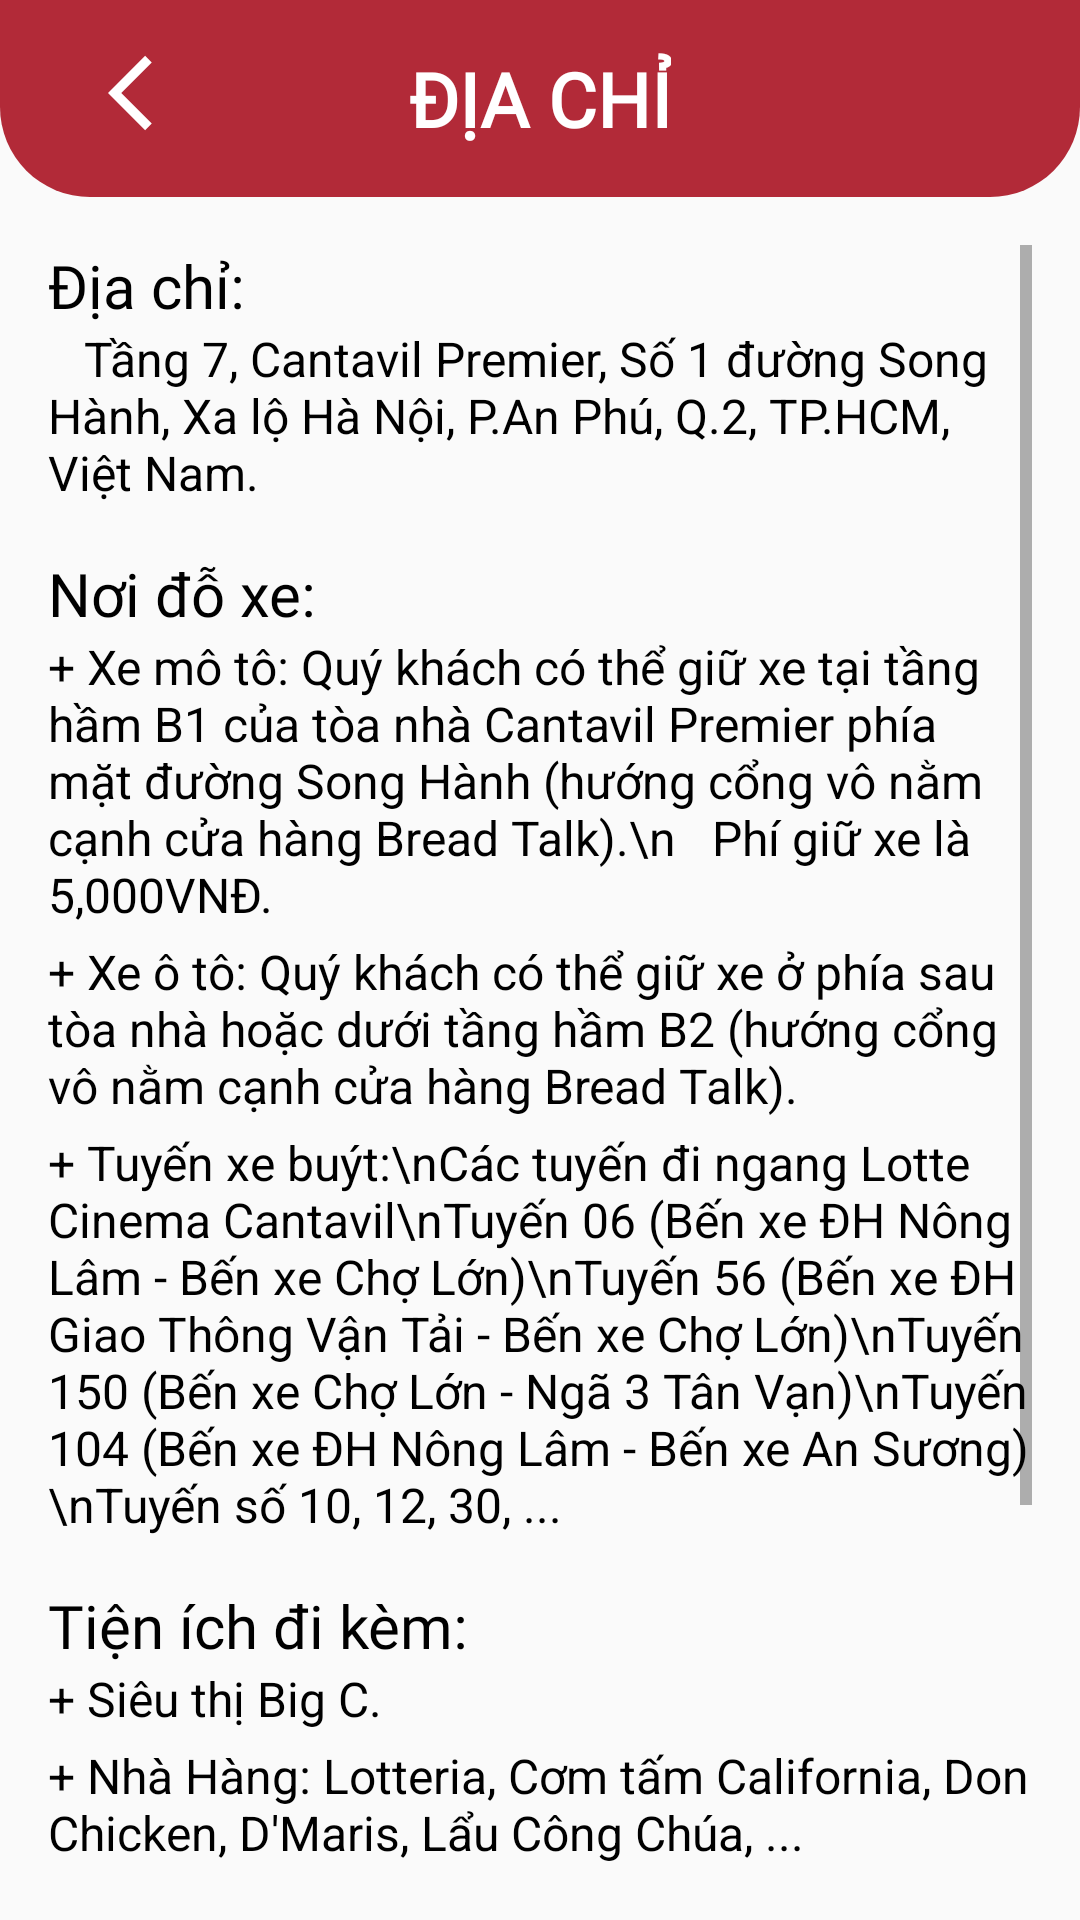

Named icons in this screenshot (1080px×1920px) and their centers, [x,y]:
back arrow: [130,93]
